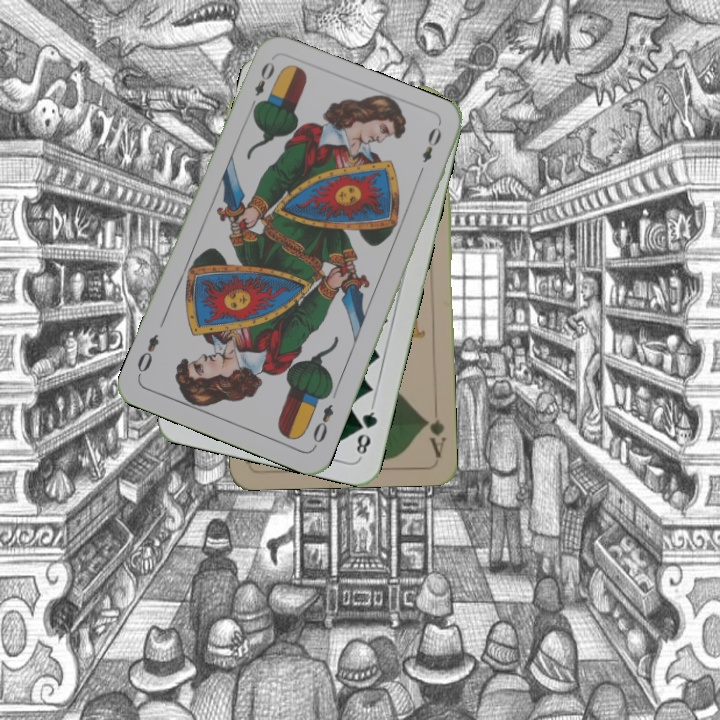EO: (246, 57, 278, 113), (308, 400, 336, 451)
G8: (352, 402, 380, 460)
GA: (421, 414, 448, 459)
